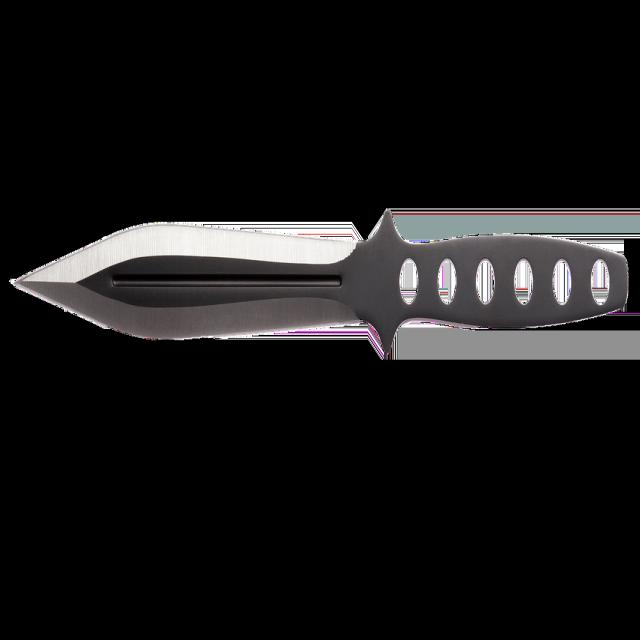Knife: (16, 211, 628, 355)
